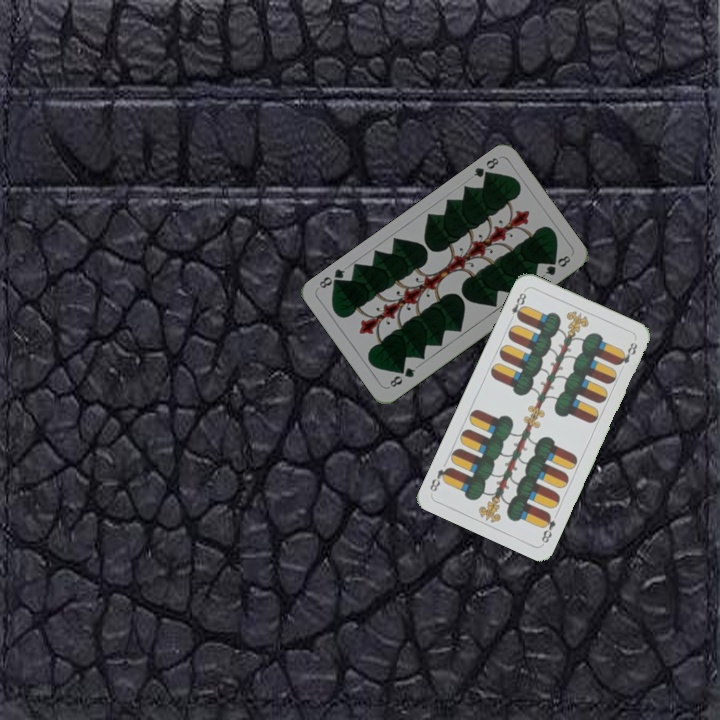E8: (506, 286, 529, 324), (537, 509, 558, 546)
G8: (384, 363, 418, 390), (470, 153, 501, 182)
